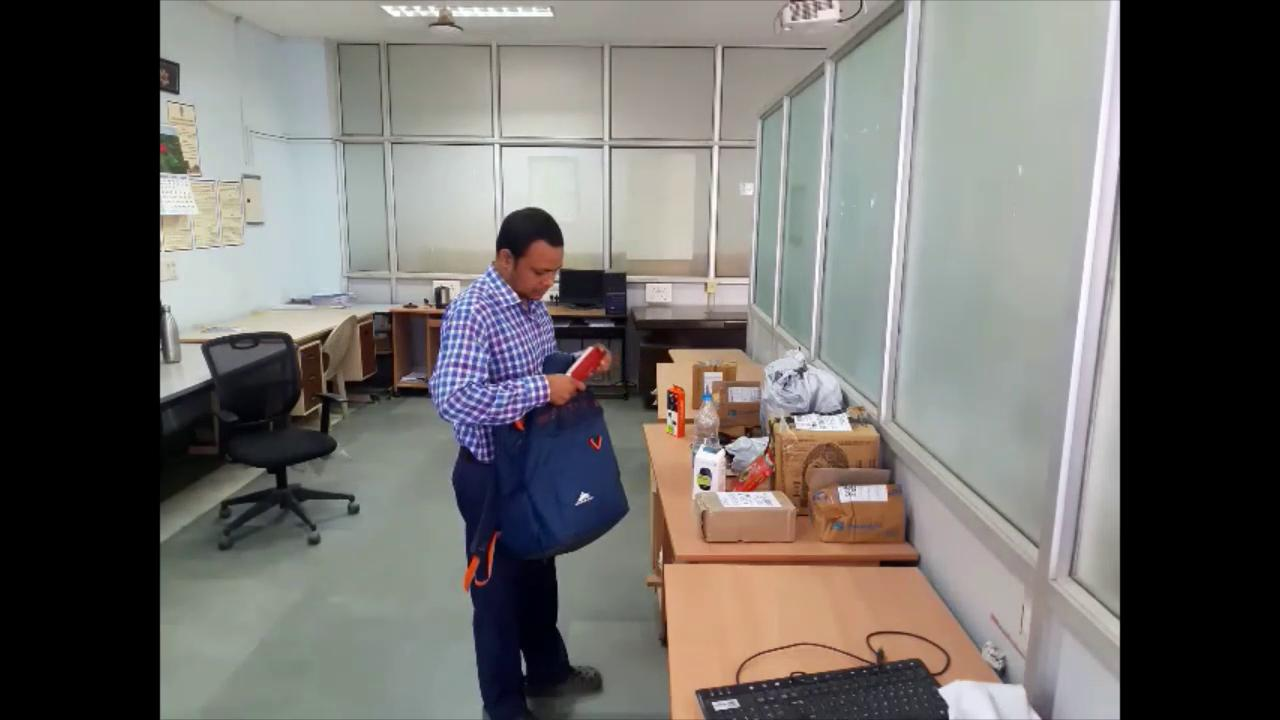shoplifting: (425, 195, 634, 720)
